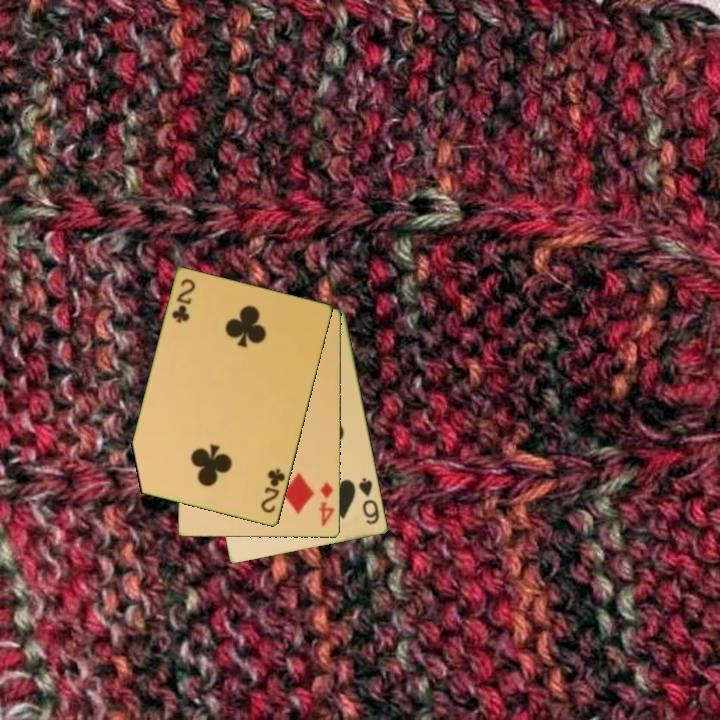2c: (257, 465, 288, 516), (168, 275, 198, 326)
4d: (316, 479, 338, 529)
6s: (355, 474, 383, 528)
